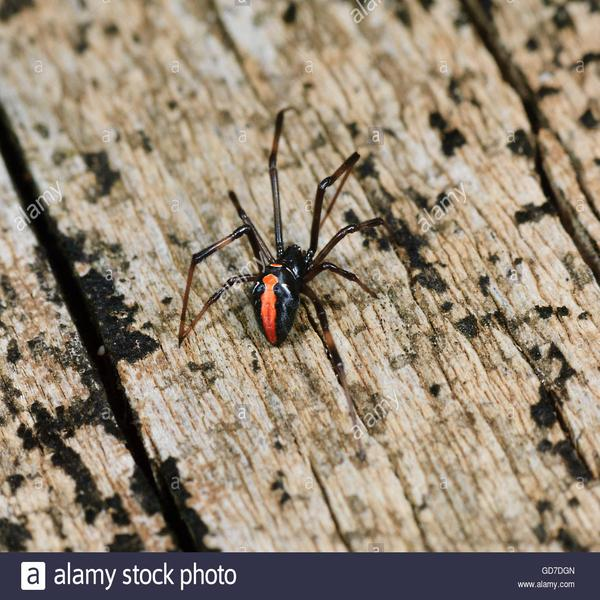Redback_Spider: (178, 108, 383, 385)
